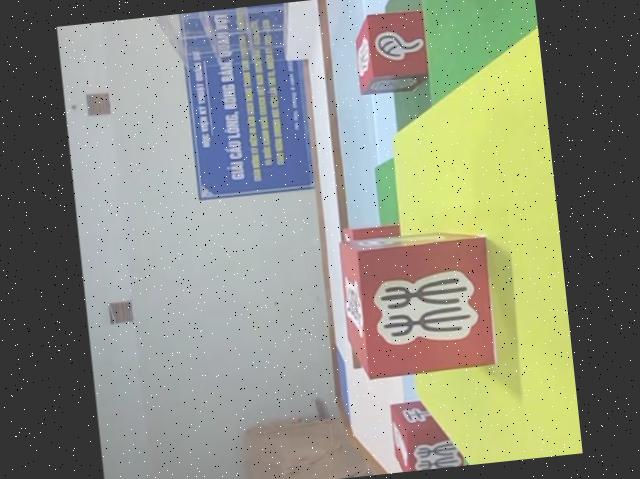R2 Fake: (333, 221, 504, 384), (349, 4, 434, 96), (386, 394, 467, 473)
